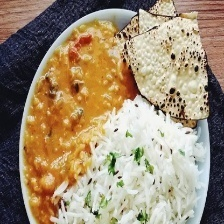rice: (47, 94, 206, 224)
